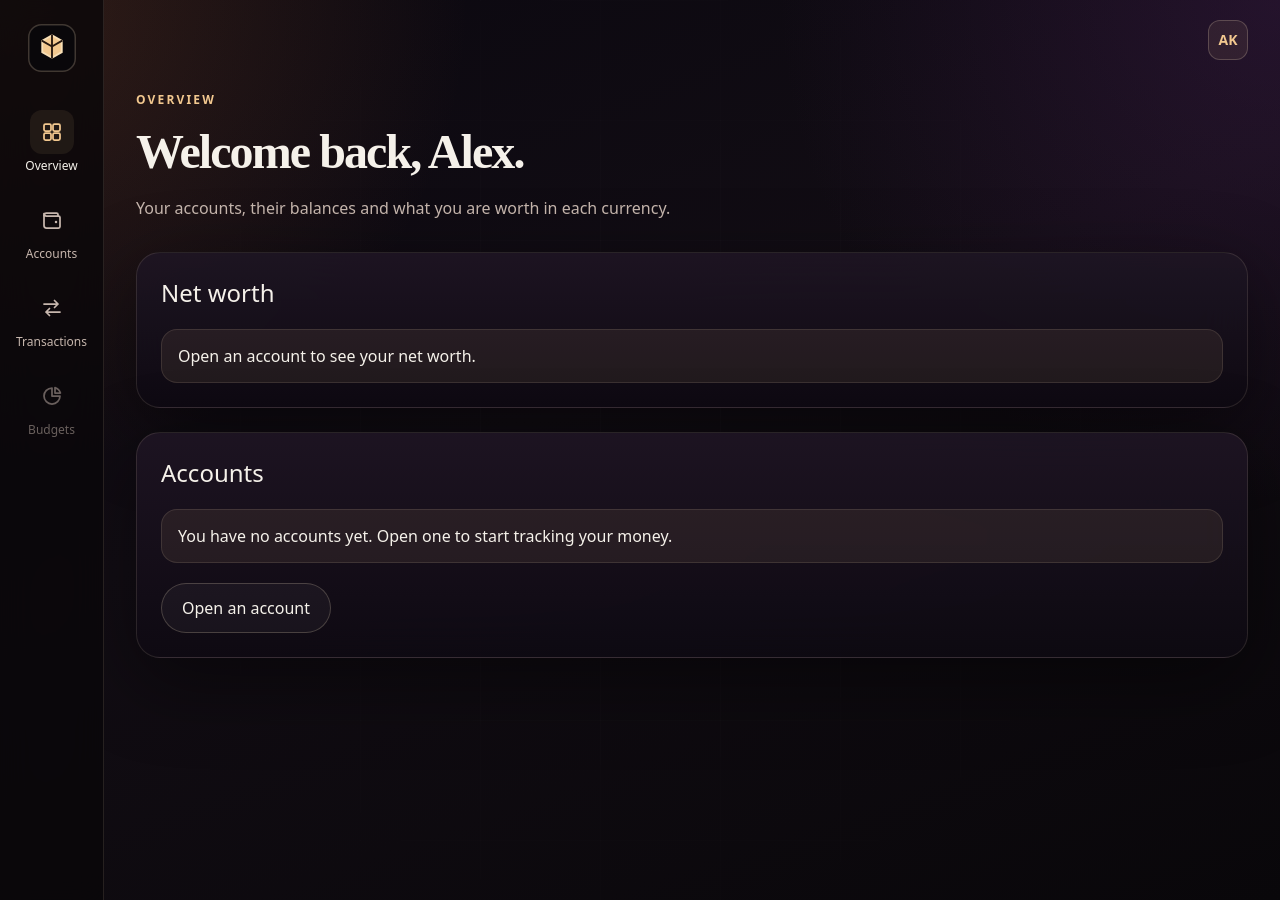
accounts › opens an account
Click the button "Open an account".
click(246, 608)  # box [161,583,331,633]
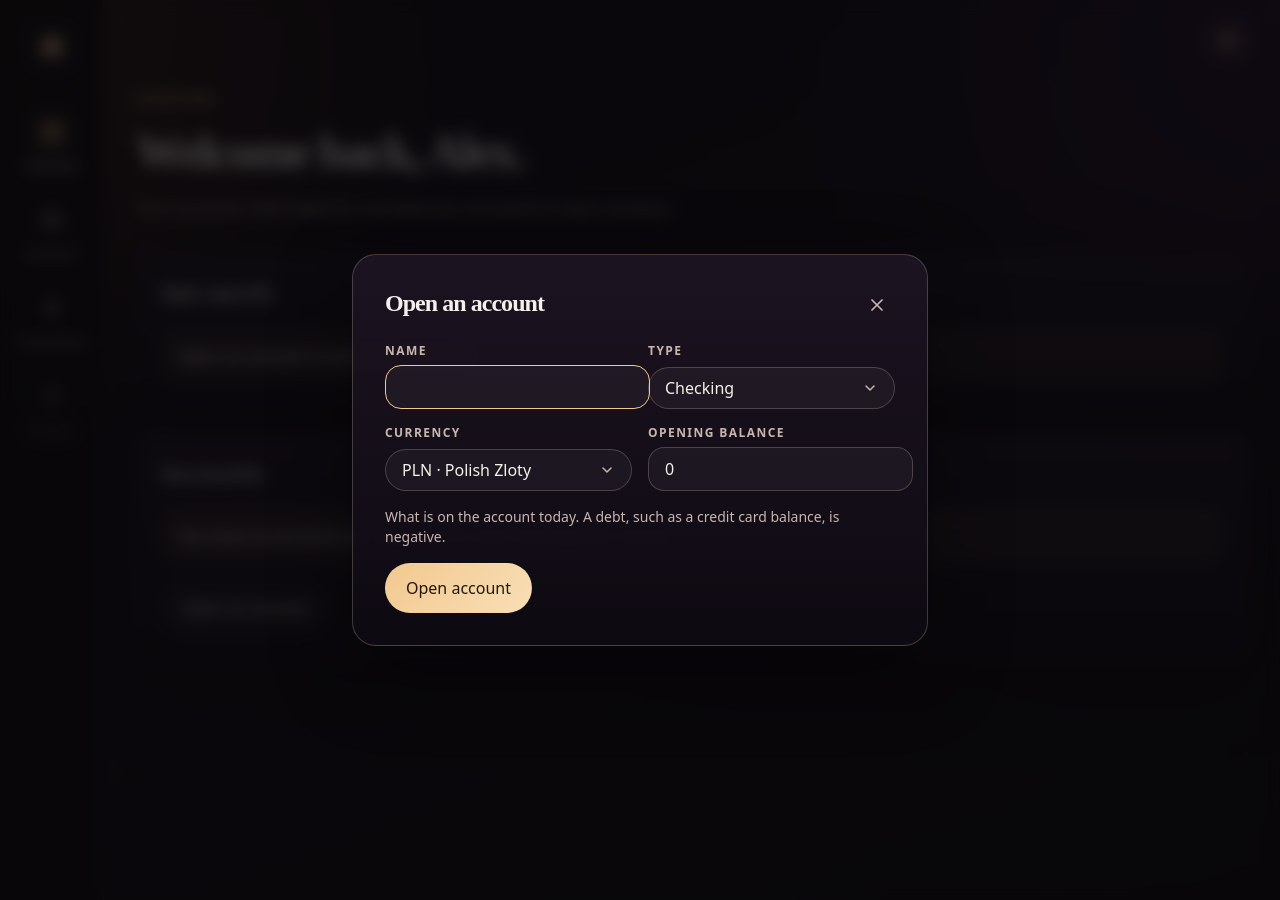
Type "Holiday savings" into the field labelled "Name".
click(518, 387); type("Holiday savings")  # box [385,365,650,409]
Click the dropdown named "Type".
click(772, 388)  # box [648,367,895,409]
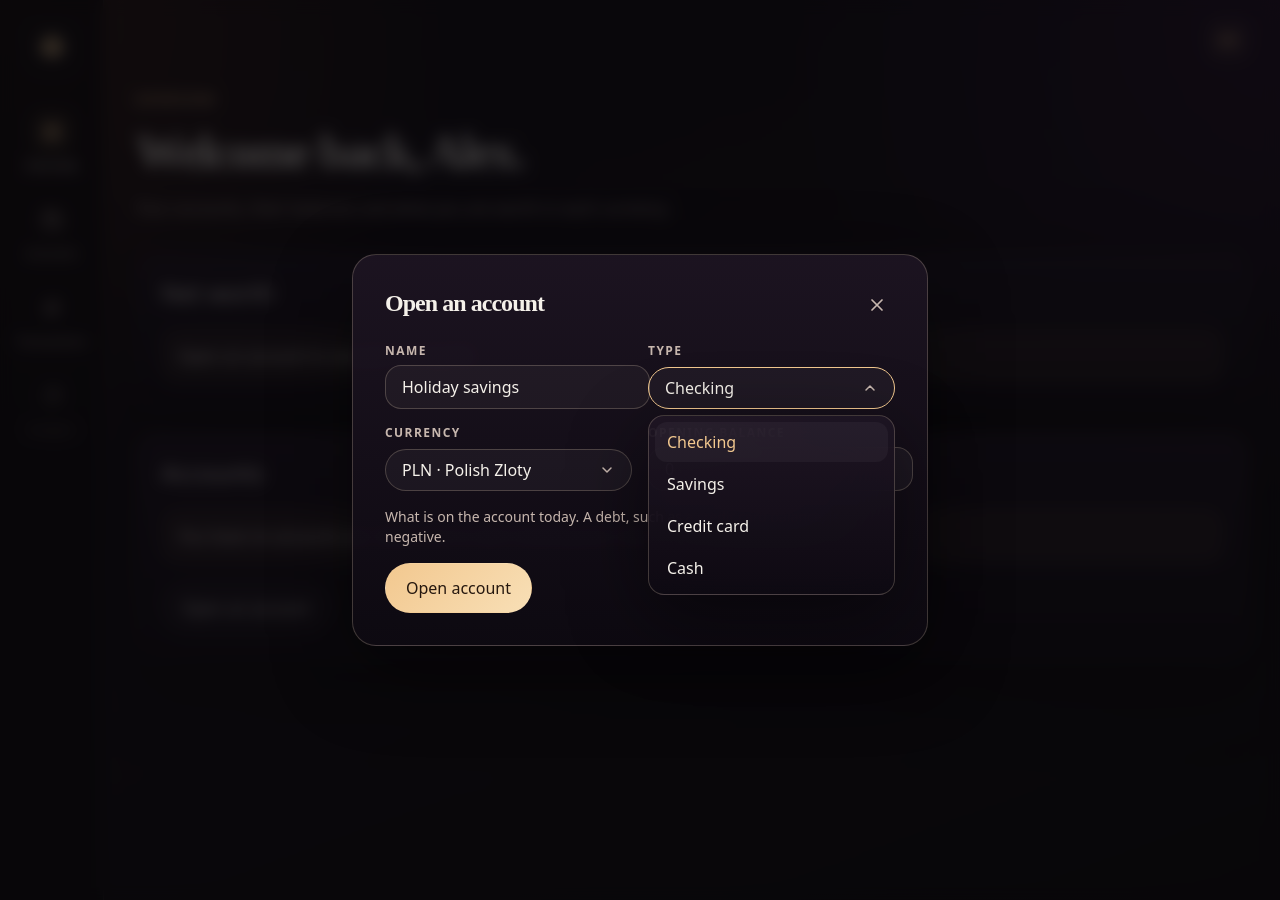
Click the option "Savings".
click(696, 484)  # box [667,473,724,495]
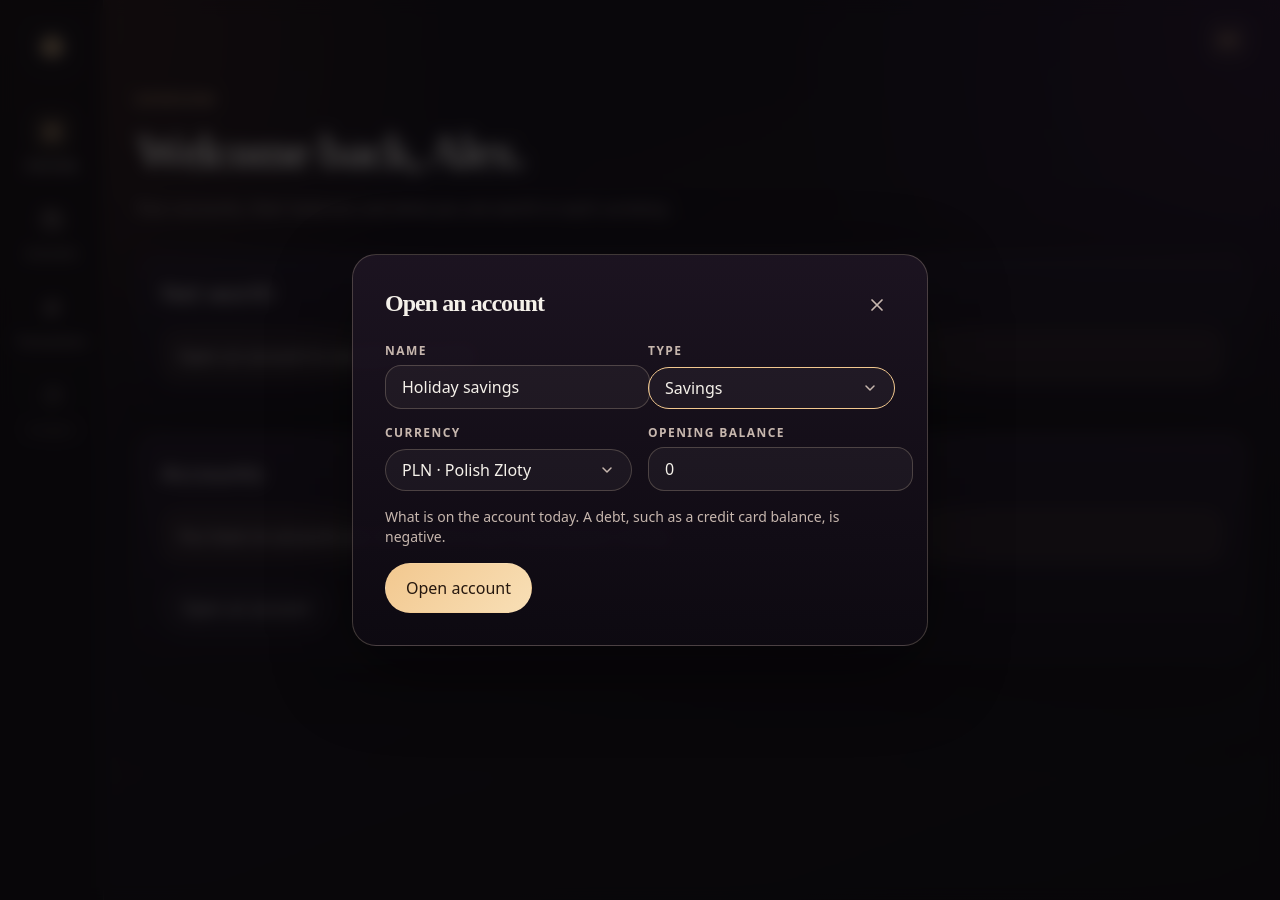
Click the dropdown named "Currency".
click(508, 470)  # box [385,449,632,491]
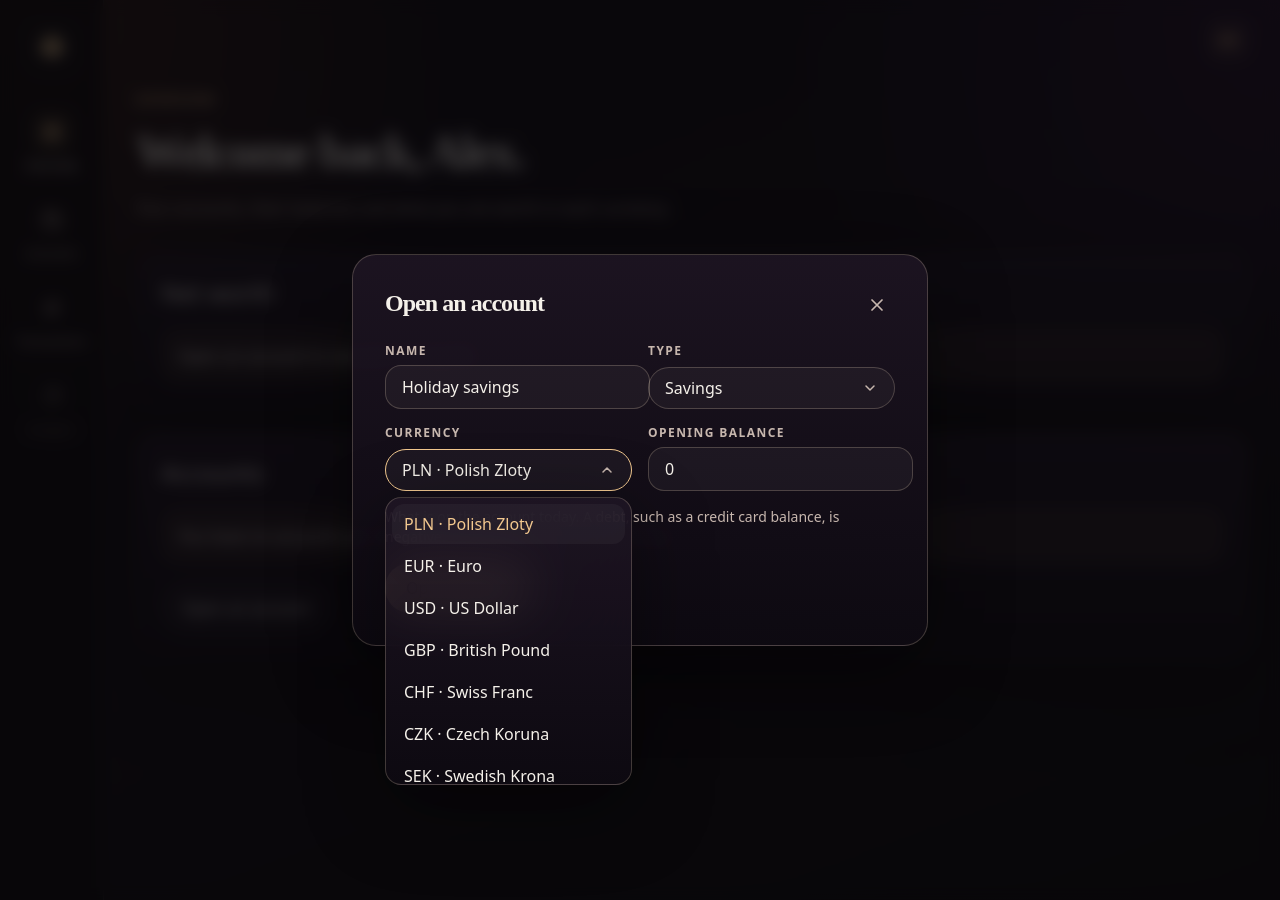
Click the option "EUR".
click(443, 566)  # box [404,555,482,577]
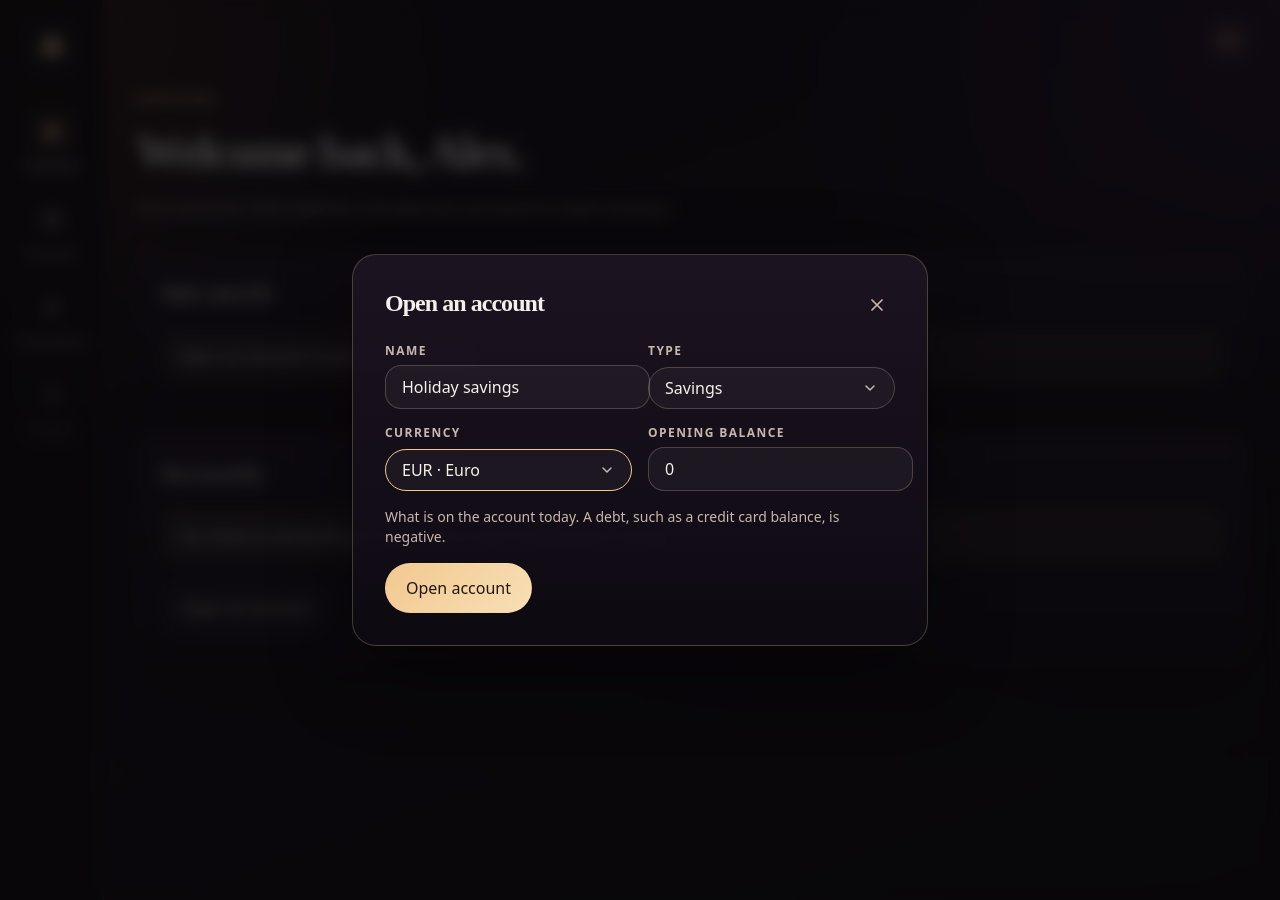
Replace the text in the field labelled "Opening balance" with "250,50" at (780, 469), box [648,447,913,491]
Click the button "Open account".
click(458, 588)  # box [385,563,532,613]
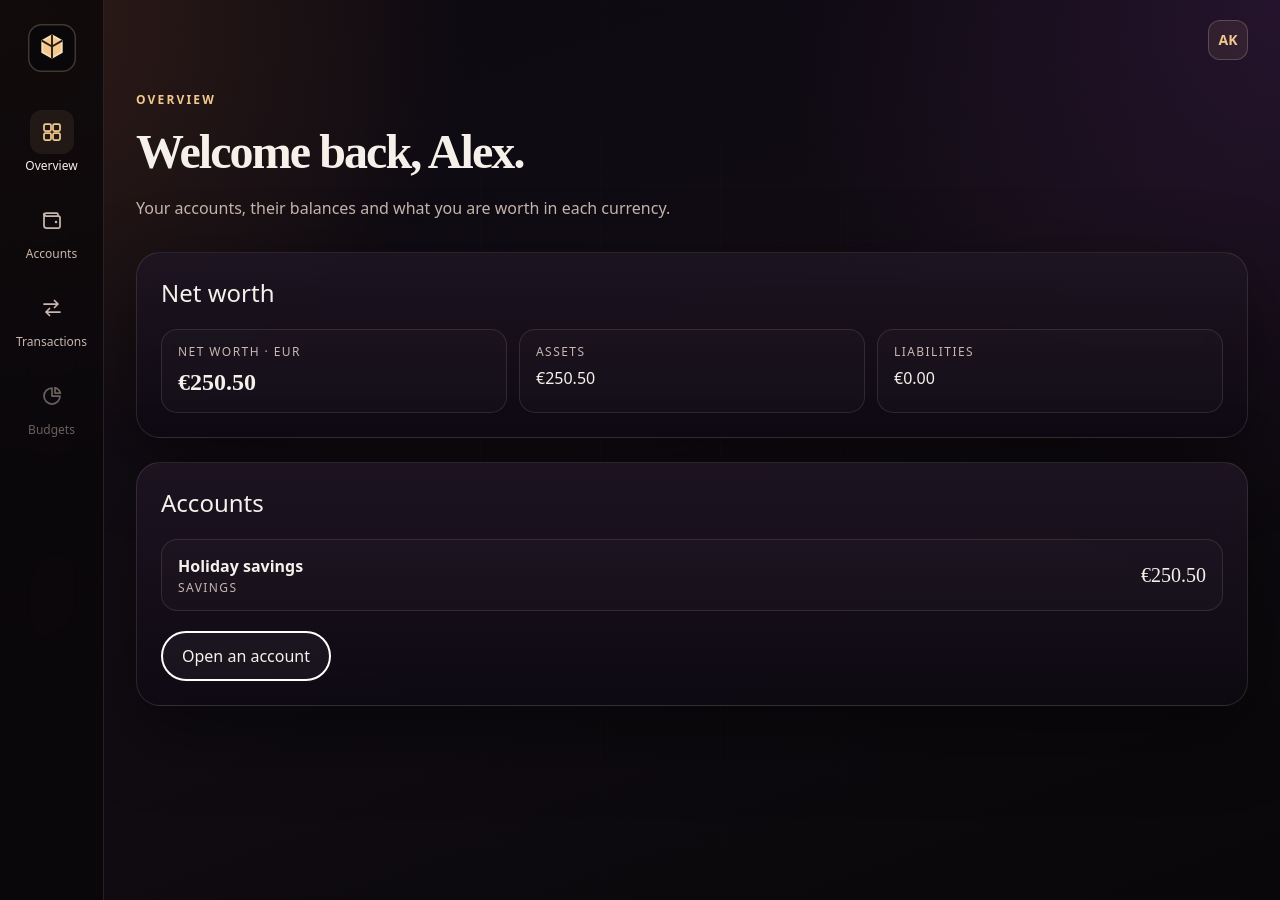
Check: the link "Holiday savings Savings €250.50" is shown, box [161,539,1223,611]
